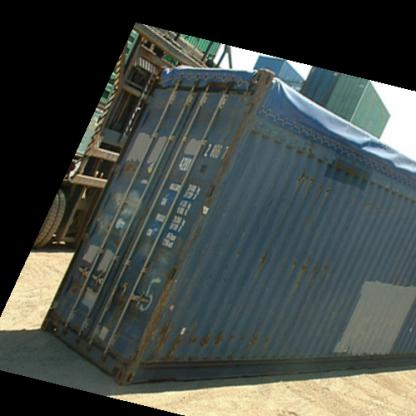Damage: (138, 316, 266, 364), (292, 164, 334, 200), (287, 256, 331, 287), (253, 243, 269, 271)
